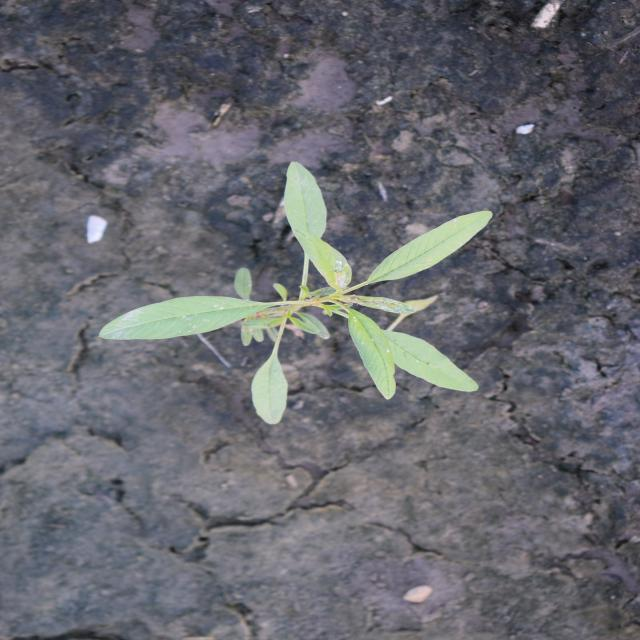Waterhemp: (92, 157, 499, 427)
